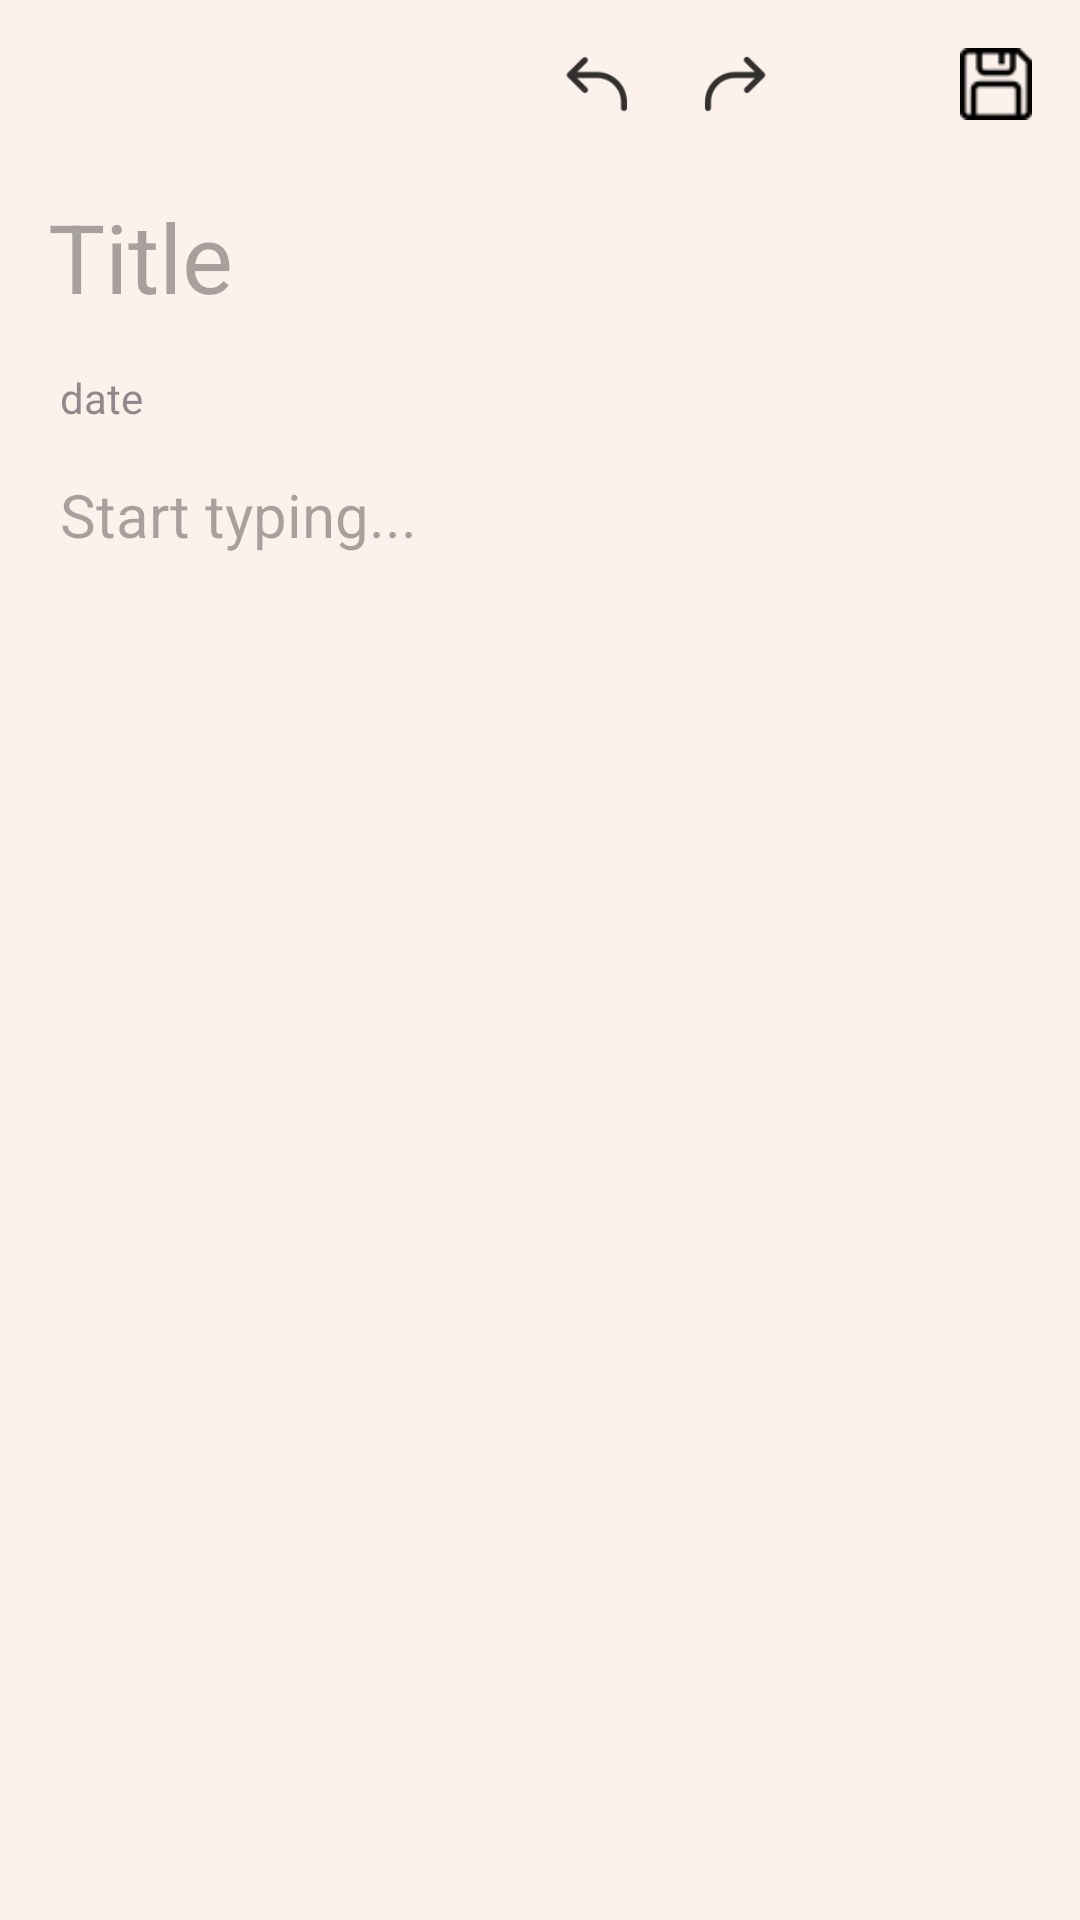

Icons on this 1080×1920 Android screen, each with its box as (x1, y1, x2, y2):
redo: (705, 57, 766, 111)
save: (960, 48, 1032, 120)
undo: (566, 57, 627, 111)
